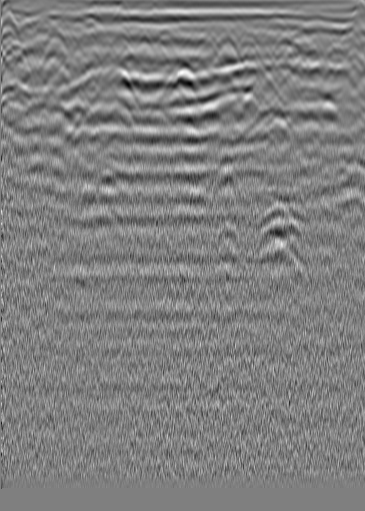가스: (67, 214, 87, 234)
상수: (336, 20, 356, 40)
우수: (191, 26, 211, 46)
